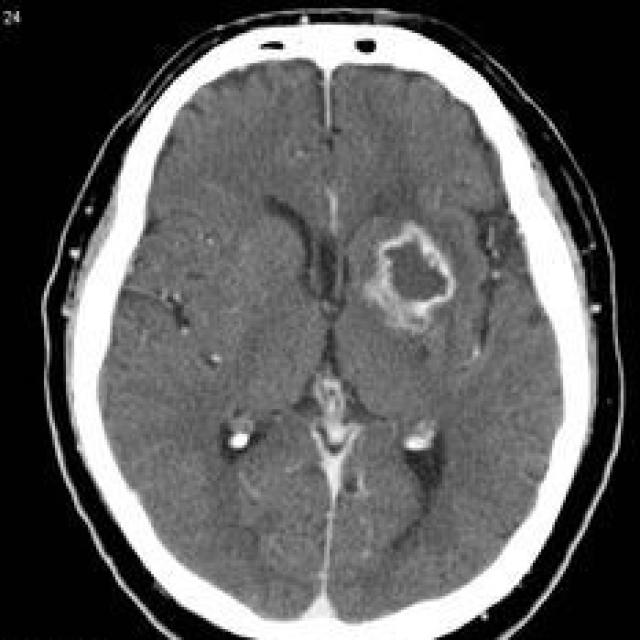Tumor-Cell: (373, 230, 466, 324)
